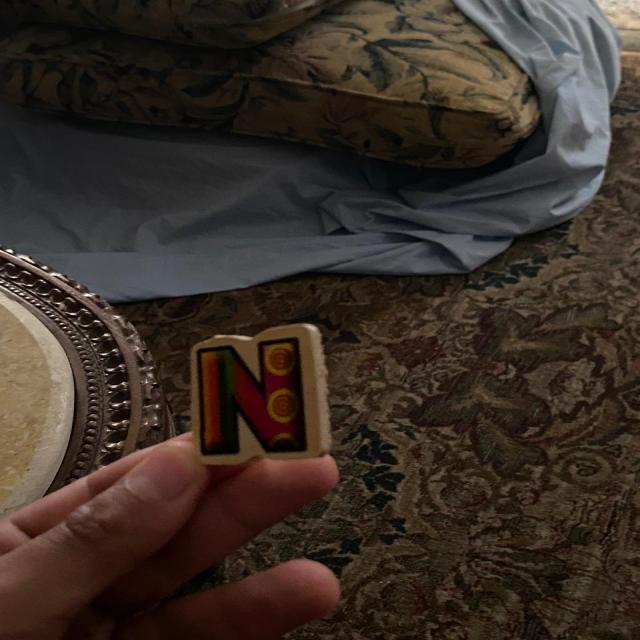N: (191, 324, 330, 465)
